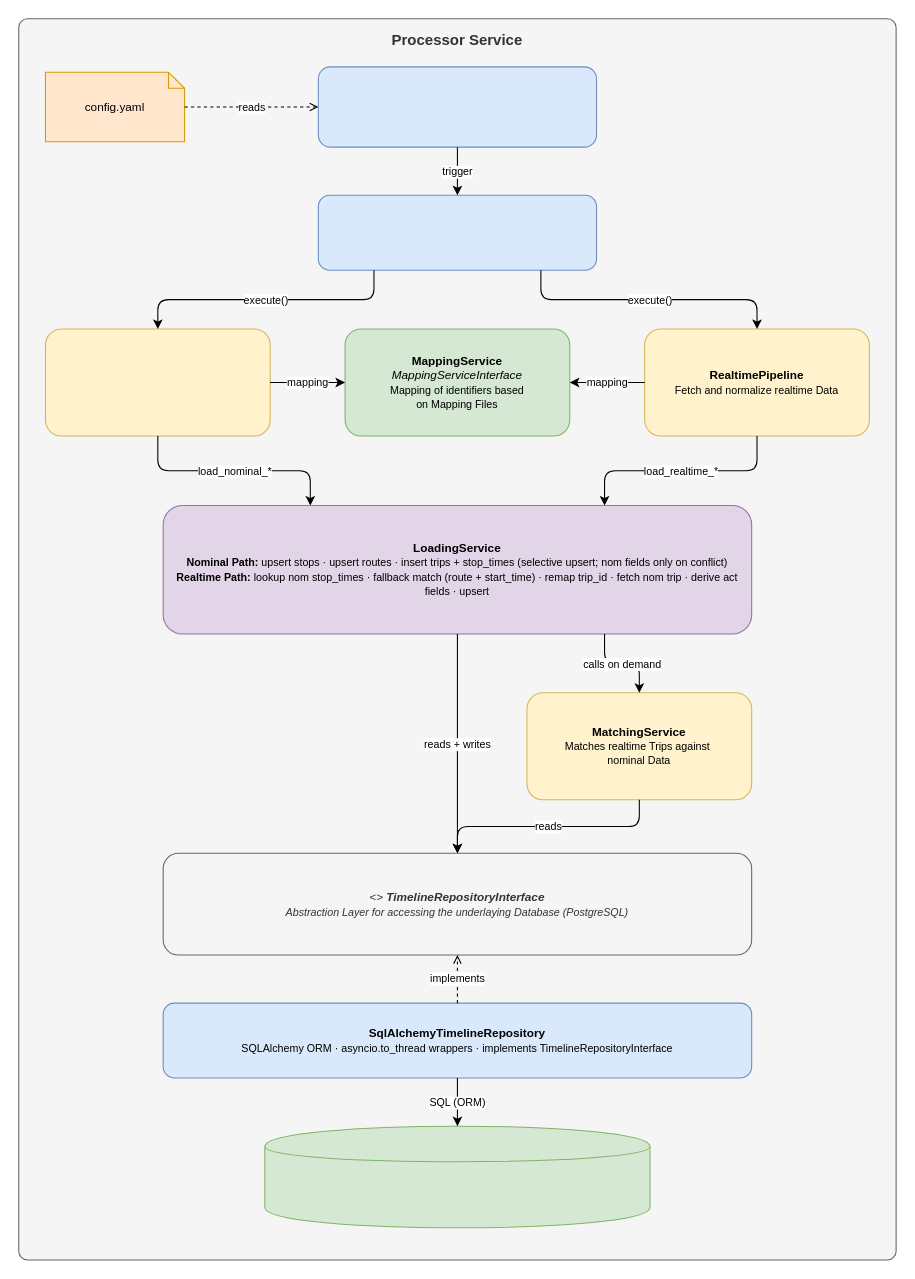
Image size: 915x1279. Some labels were removed from this diagram. The centre of each missing label's shape, as x and y in pixels:
NominalPipeline Fetch and normalize nominal Data: the point at 157,382
PipelineExecutor PipelineExecutorInterface: the point at 457,232
PipelineScheduler cron-based trigger per pipeline: the point at 457,106
PostgreSQL 16 Timeline Schema: the point at 457,1176
